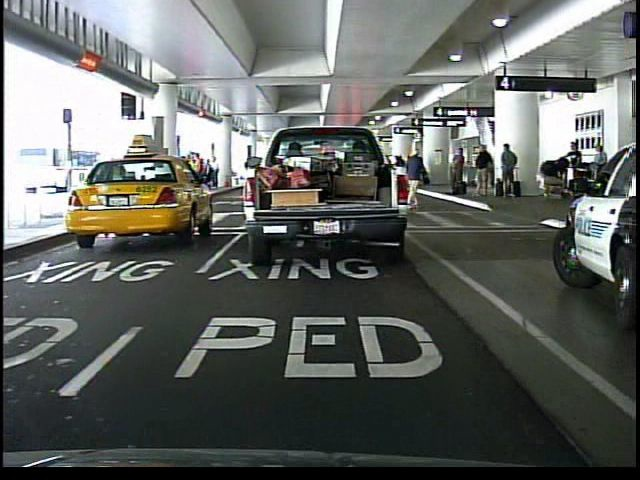person: (356, 138, 390, 223), (588, 139, 613, 200), (407, 145, 428, 212), (564, 139, 587, 200)
